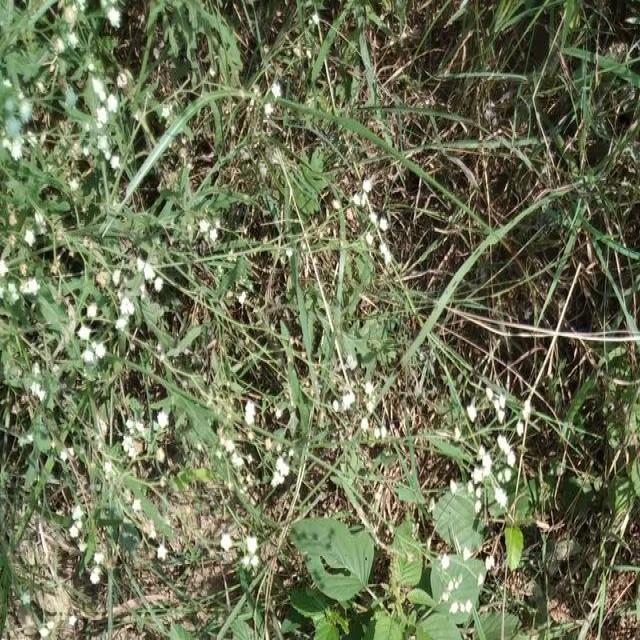weed: (3, 9, 166, 572), (294, 538, 498, 636), (447, 394, 540, 492), (336, 171, 405, 285), (218, 405, 296, 492)
